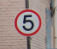speed_limit_5: (14, 9, 41, 36)
